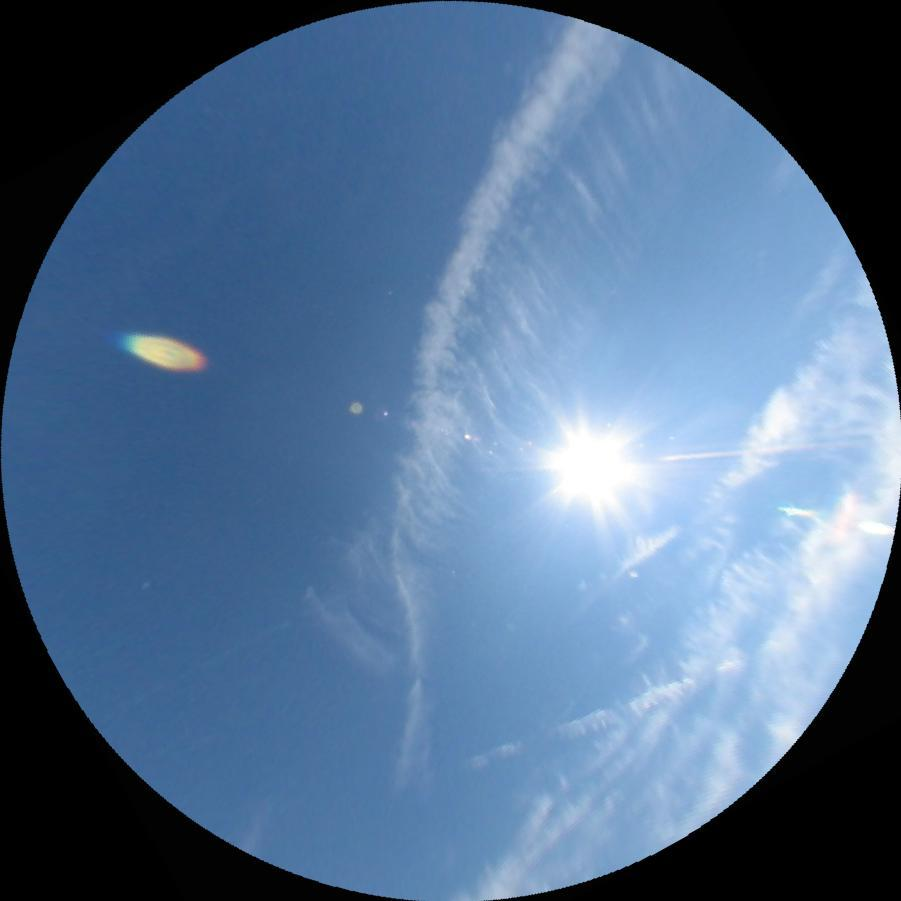contrail old: (467, 657, 741, 773)
contrail veryold: (273, 33, 734, 681), (300, 2, 629, 796)
parasite: (655, 437, 853, 464)
sun: (543, 416, 636, 509)
